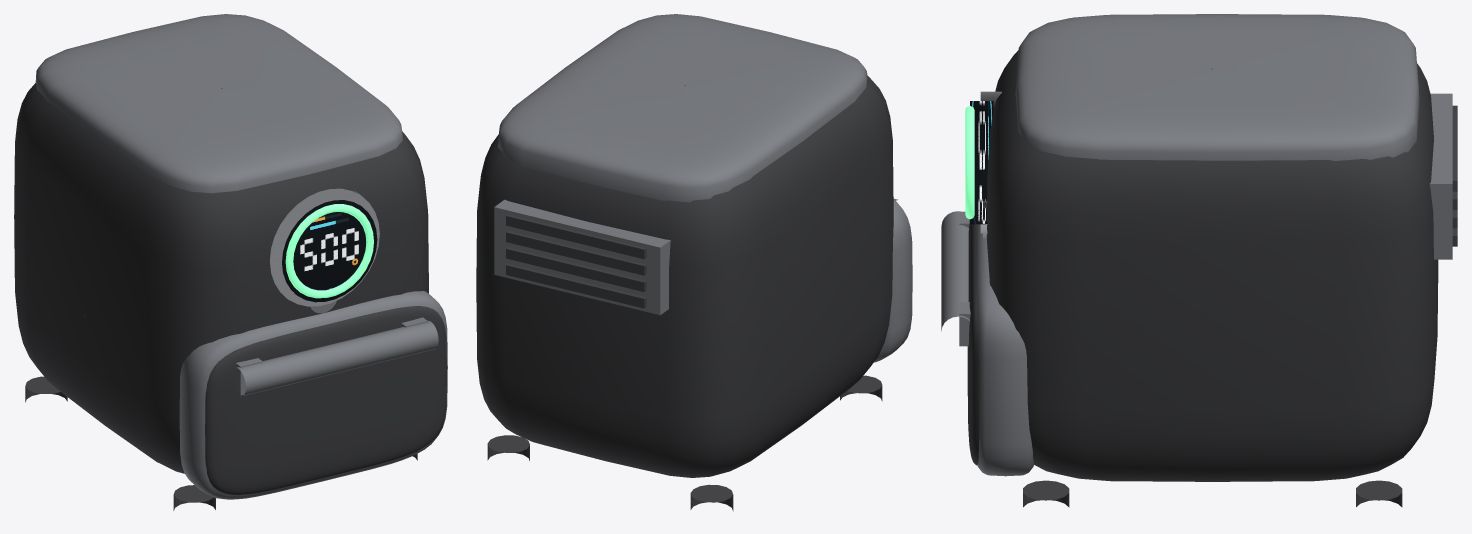
File: air-fryer.glb
3 renders of one model, left to right at view 1: azimuth 30°, elevation 25°; view 2: azimuth 150°, elevation 25°; view 3: azimuth 270°, elevation 25°, orthographic. The views are drawn at different scales.
Visible parts, largest first — view 1: body, crown, drawer-face, drawer, handle, control-face, control-ring, temp-ring, foot (×2); view 2: body, crown, rear-vent, rear-slat (×4), drawer, foot (×3); view 3: body, crown, drawer, rear-vent, handle, drawer-face, control-face, foot (×2), temp-ring.
Boxes of the visible parts, left/top/right/bottom form: body: left=14, top=83, right=428, bottom=473; crown: left=35, top=14, right=402, bottom=193; drawer-face: left=205, top=306, right=446, bottom=494; drawer: left=179, top=291, right=447, bottom=499; handle: left=236, top=320, right=438, bottom=395; control-face: left=282, top=200, right=377, bottom=302; control-ring: left=270, top=188, right=379, bottom=306; temp-ring: left=285, top=204, right=373, bottom=298; foot (×2): left=25, top=376, right=215, bottom=510; body: left=476, top=75, right=893, bottom=477; crown: left=498, top=14, right=867, bottom=202; rear-vent: left=494, top=199, right=670, bottom=315; rear-slat (×4): left=506, top=214, right=646, bottom=308; drawer: left=874, top=199, right=912, bottom=362; foot (×3): left=487, top=375, right=882, bottom=511; body: left=986, top=50, right=1438, bottom=481; crown: left=1015, top=14, right=1419, bottom=160; drawer: left=976, top=224, right=1034, bottom=476; rear-vent: left=1429, top=93, right=1452, bottom=259; handle: left=941, top=211, right=969, bottom=331; drawer-face: left=967, top=219, right=979, bottom=465; control-face: left=970, top=101, right=993, bottom=224; foot (×2): left=1023, top=480, right=1402, bottom=507; temp-ring: left=965, top=106, right=974, bottom=219.
Size of the model in its own units: 0.3 by 0.358 by 0.434.
Materials: 7 (2 with a texture image).
